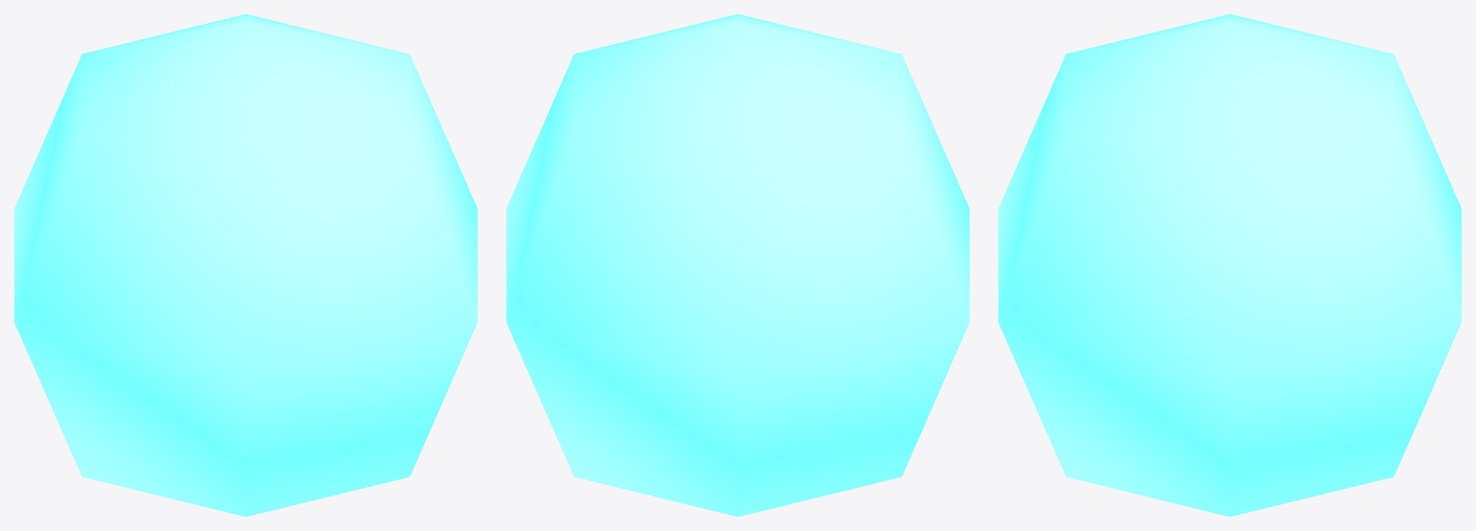
File: bead.glb
3 renders of one model, left to right at view 1: azimuth 30°, elevation 25°; view 2: azimuth 150°, elevation 25°; view 3: azimuth 270°, elevation 25°, orthographic.
Parts seen in each view (by area): view 1: bead; view 2: bead; view 3: bead.
Part boxes in pixels (x1,y1,x2,y2): bead: (14,14,477,516); bead: (506,14,969,516); bead: (998,14,1461,516).
Size of the model in its own units: 0.36 by 0.36 by 0.3118.
